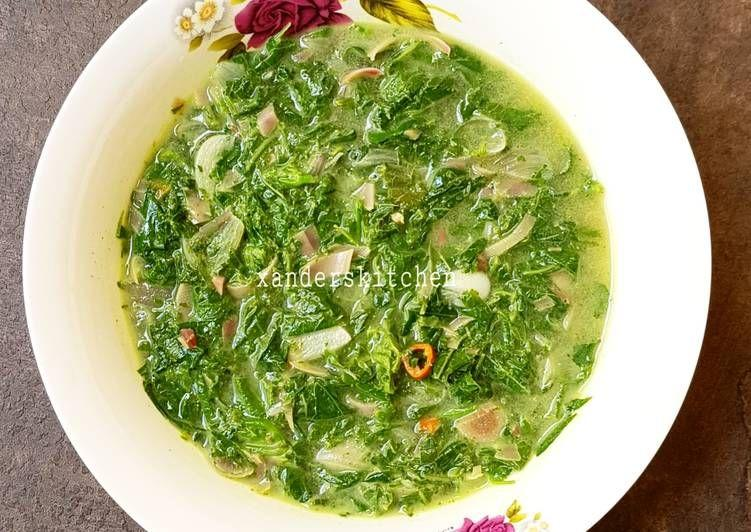buah_sayur_lainnya: (215, 73, 503, 452)
